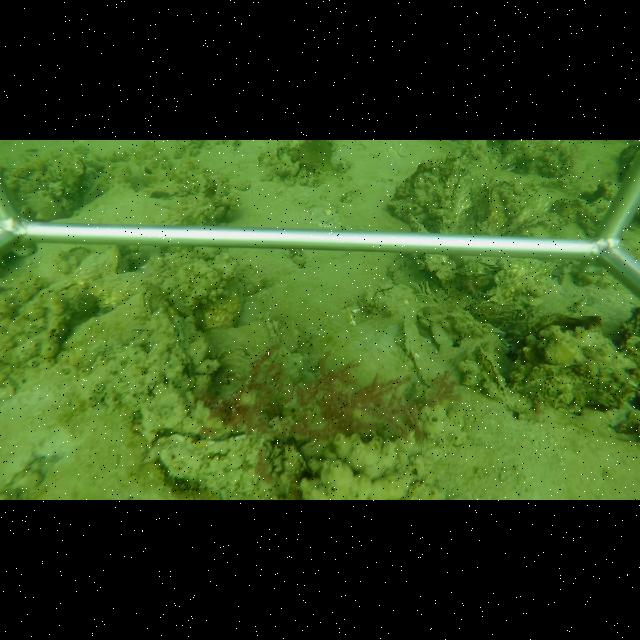Oyster-Closed: (158, 434, 278, 500), (398, 313, 444, 389), (469, 296, 529, 338), (213, 344, 254, 400), (72, 245, 120, 289), (448, 172, 477, 230), (476, 346, 506, 394), (372, 282, 416, 310), (457, 257, 499, 279), (418, 302, 444, 320), (411, 290, 435, 304)
Oyster-Open: (485, 183, 507, 231)
